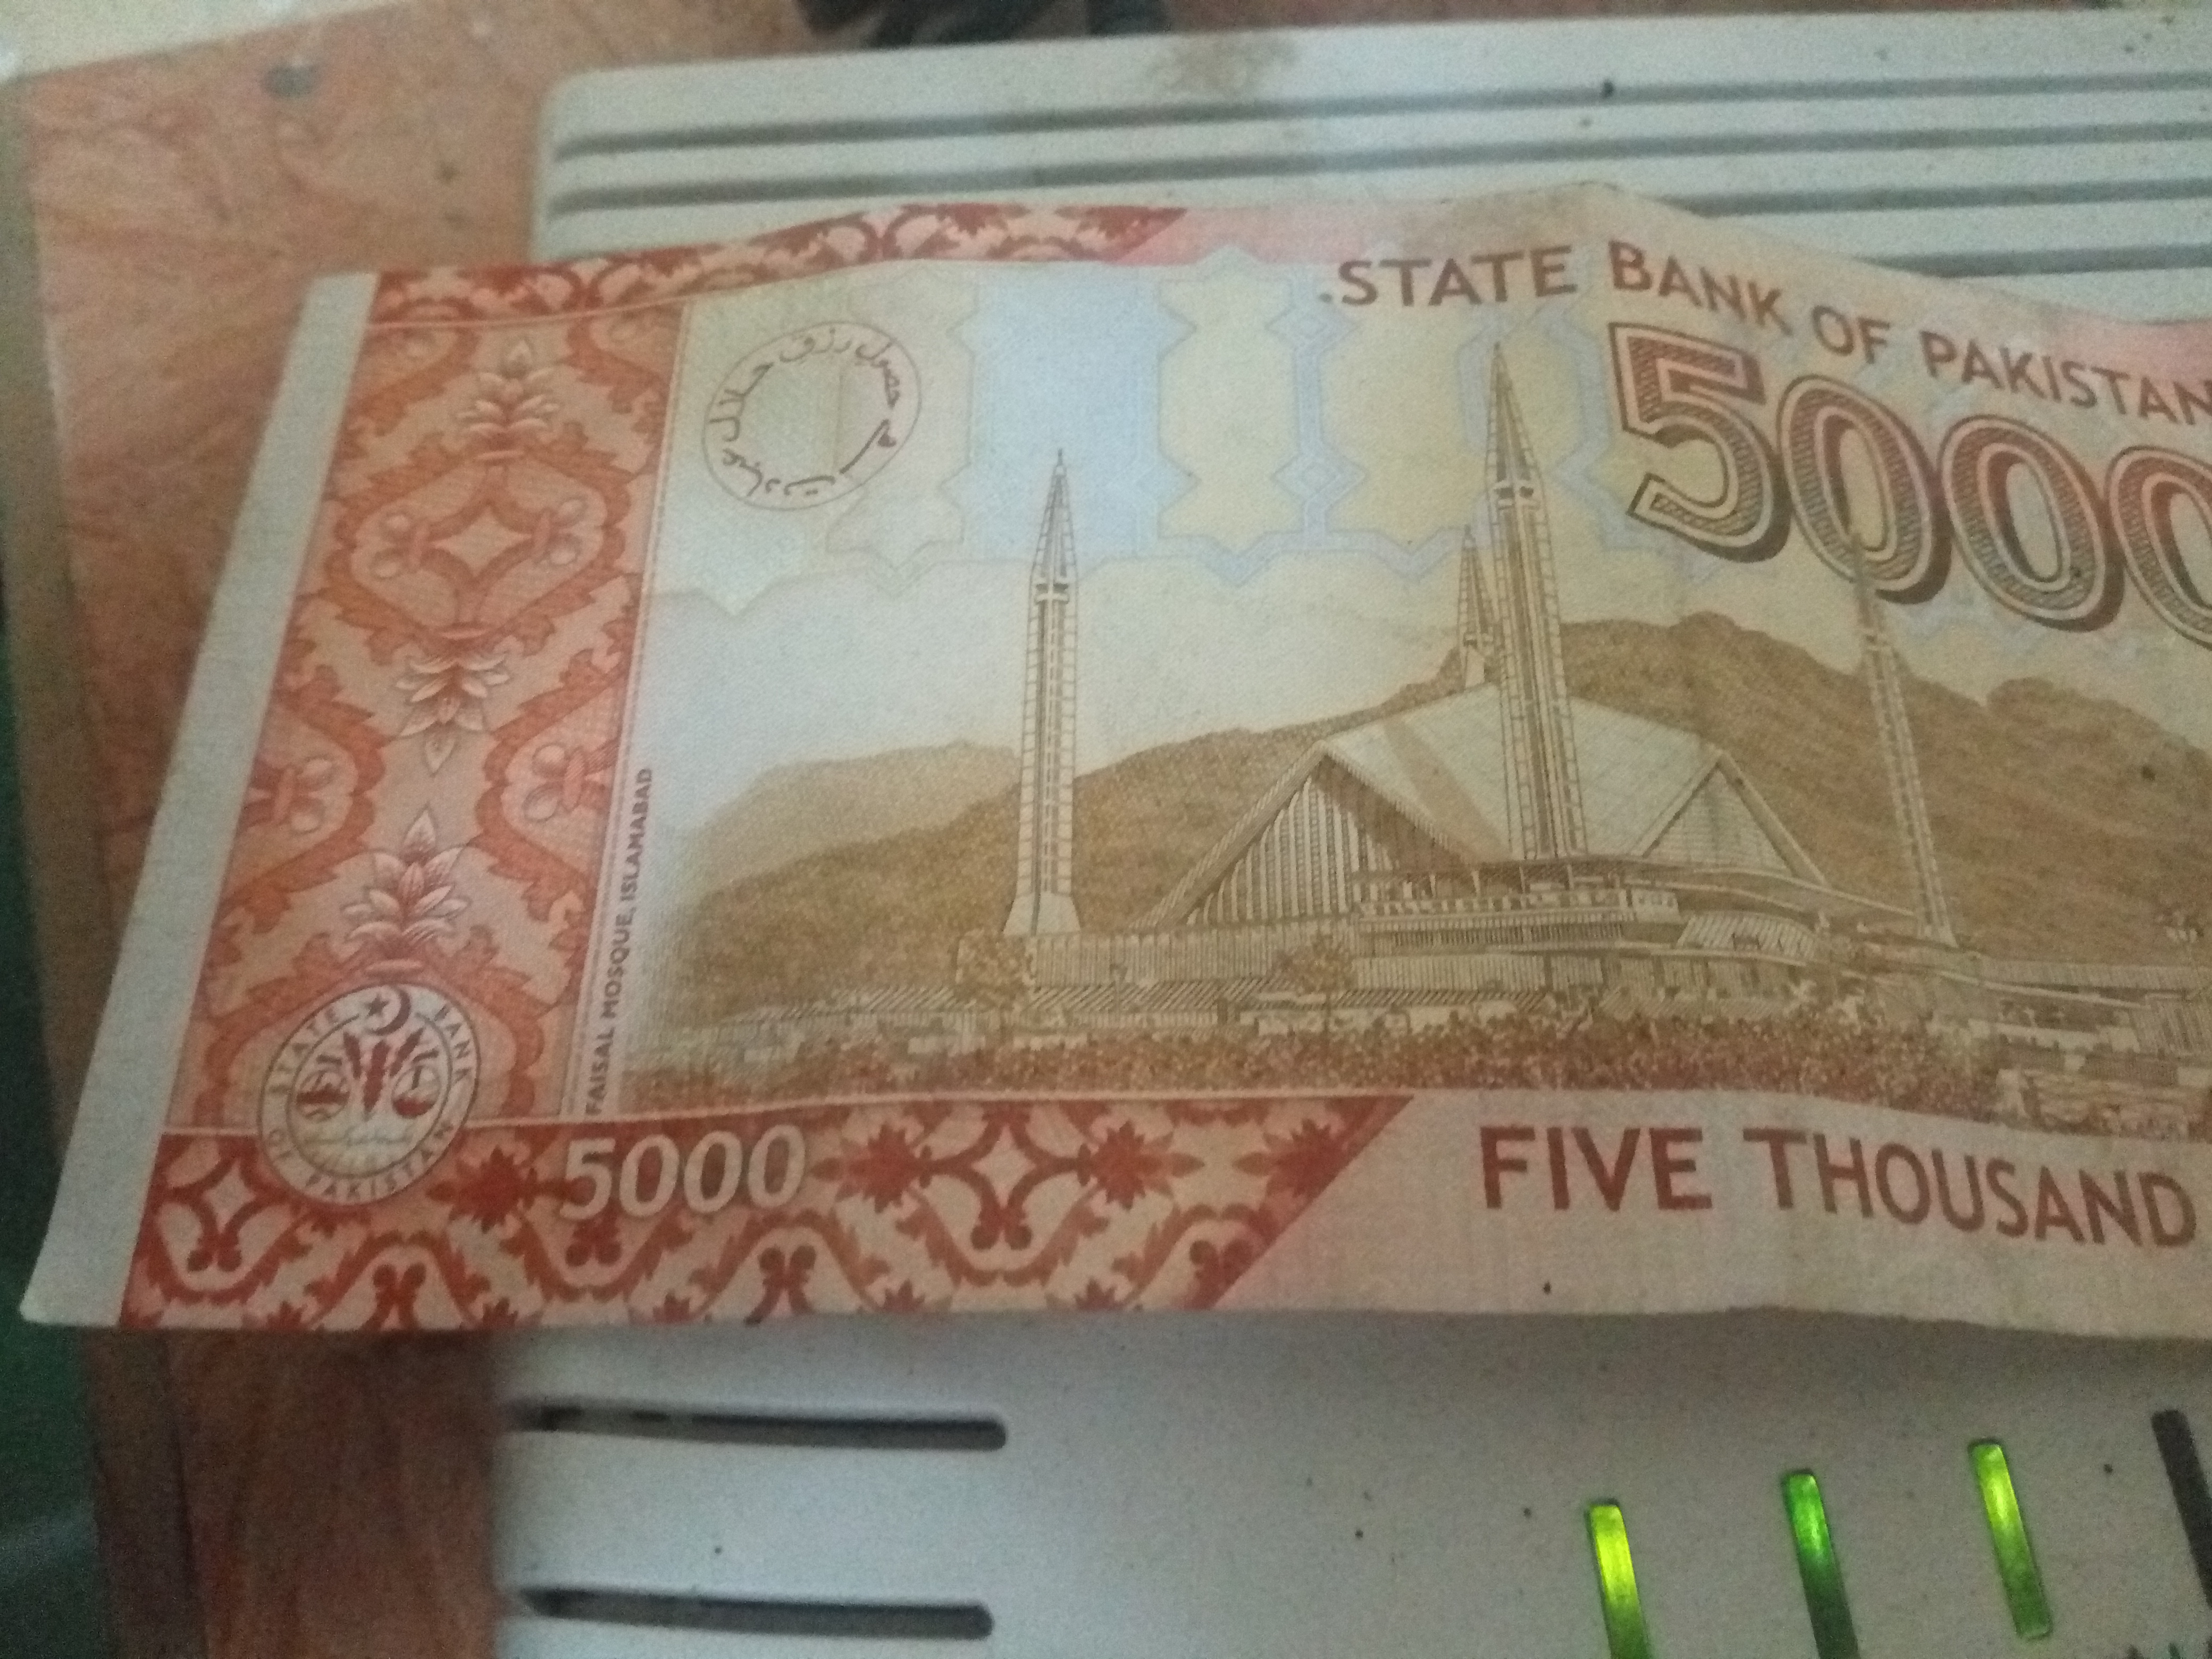5000 rupee: (12, 199, 2175, 1448)
